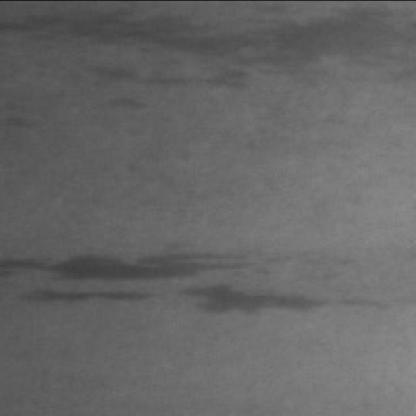inclusion: (8, 0, 412, 90), (4, 243, 393, 312), (81, 52, 196, 114)
